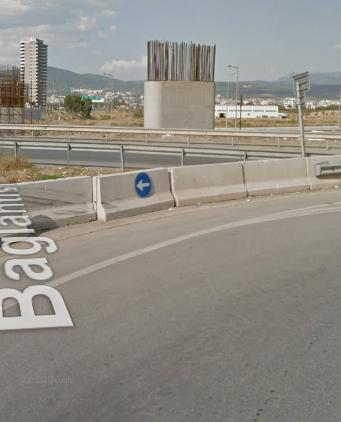turnleft: (133, 172, 153, 198)
